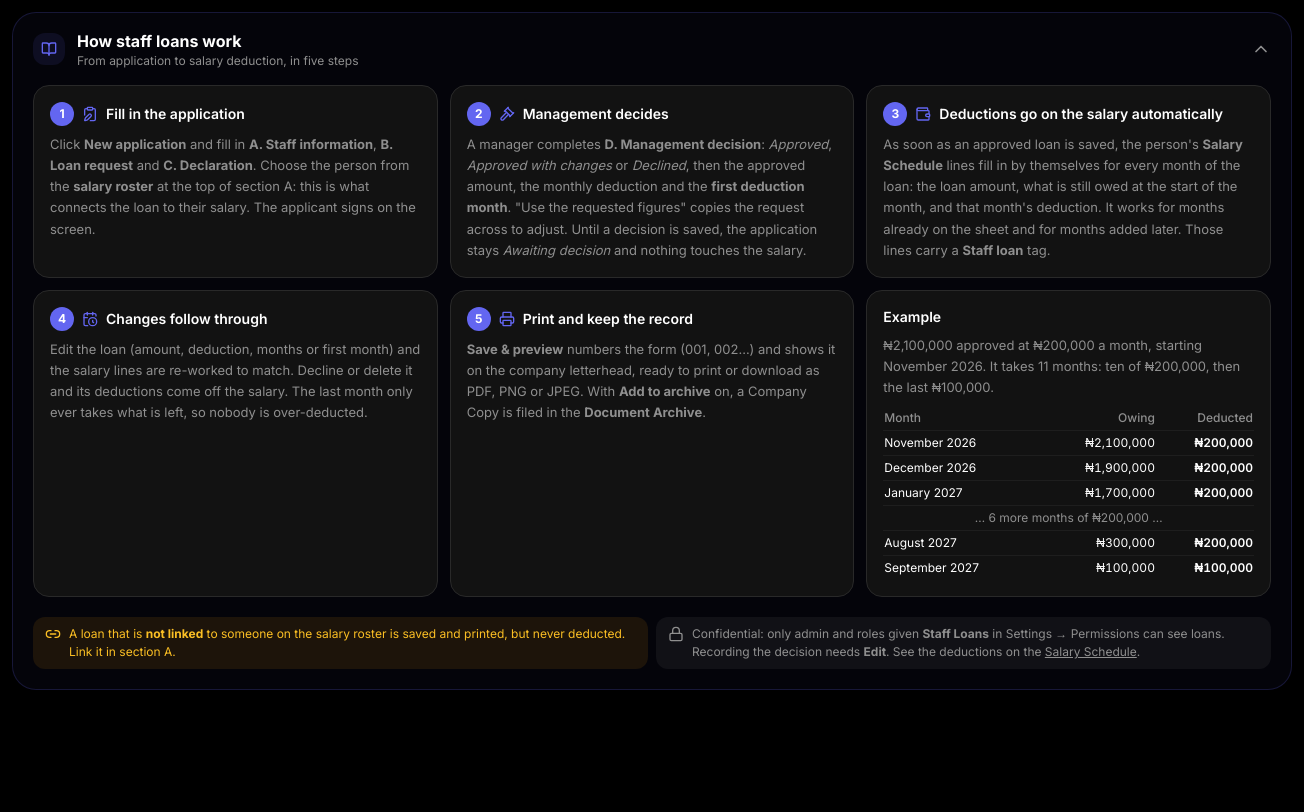
loan walkthrough › explains the five steps with a worked example, and folds away
The width and height of the screenshot is (1304, 812).
Expected: the text "Fill in the application" is shown, [106, 105, 245, 122]
Expected: the text "Management decides" is shown, [523, 105, 669, 122]
Step 1. Click the button "How staff loans work" → click(49, 49), box [13, 13, 1291, 85]
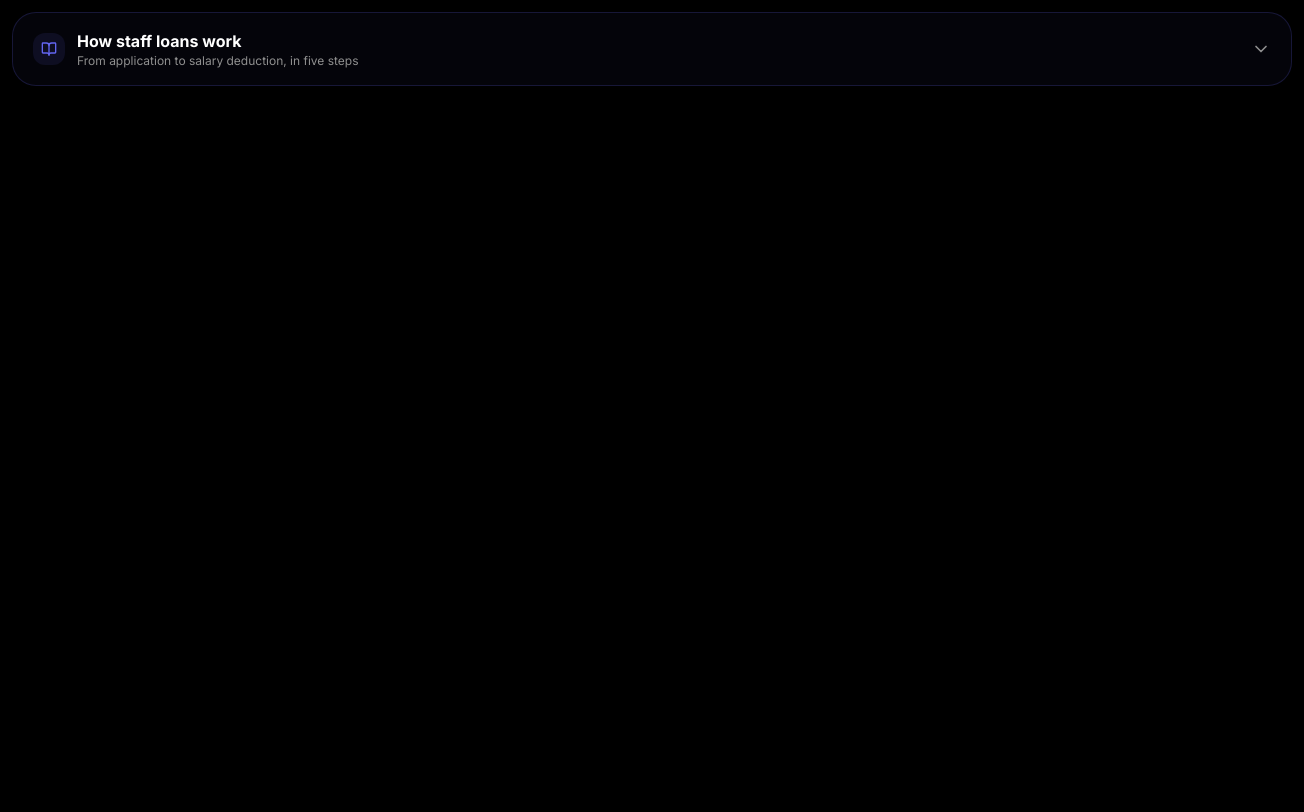
Now the text "Management decides" is gone
